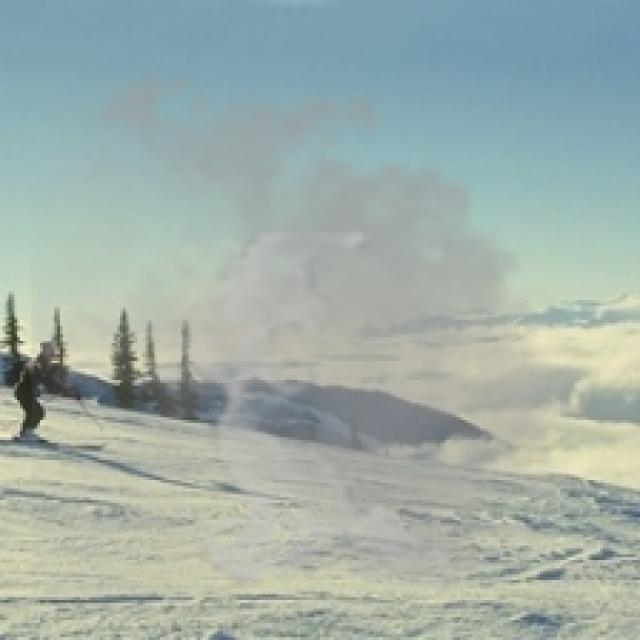smoke: (31, 54, 600, 600)
